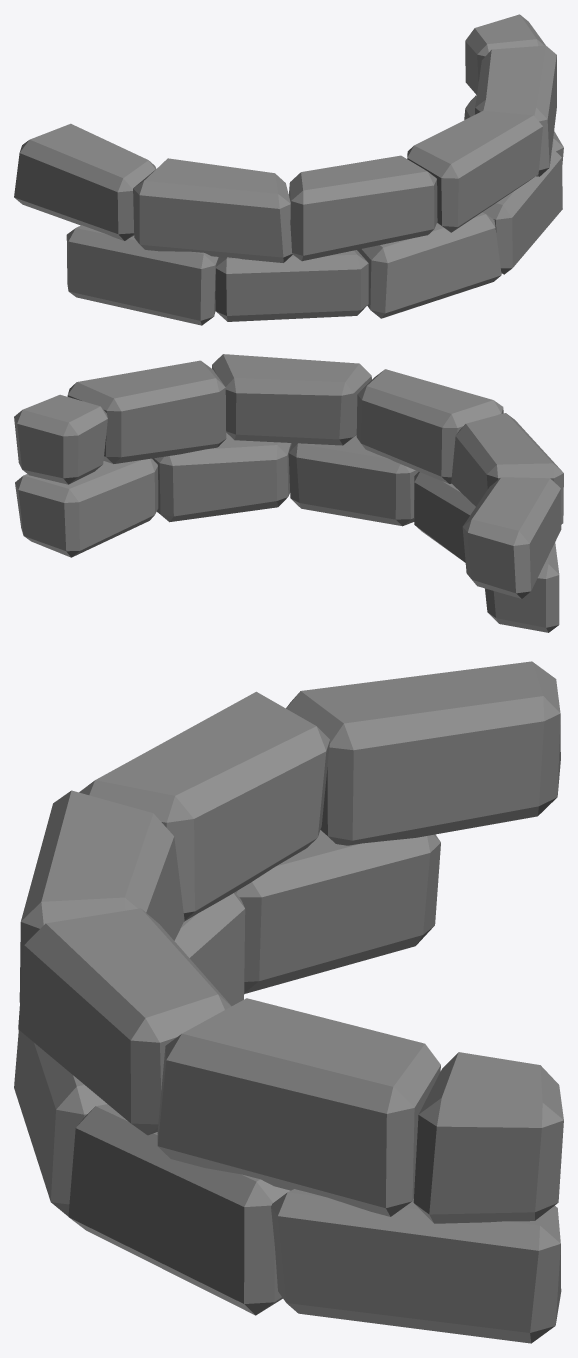
Rendered from BrickWall2mSection_01_T180_End_L.fbx.
The picture shows the model from 3 angles, top to bottom: view 1: azimuth 30°, elevation 25°; view 2: azimuth 150°, elevation 25°; view 3: azimuth 270°, elevation 25°; orthographic projection. The views are drawn at different scales.
Visible parts, largest first — view 1: BrickWall2mSection_01_T180_End_L; view 2: BrickWall2mSection_01_T180_End_L; view 3: BrickWall2mSection_01_T180_End_L.
Part boxes in pixels (x1,y1,x2,y2): BrickWall2mSection_01_T180_End_L: [14, 14, 563, 325]; BrickWall2mSection_01_T180_End_L: [14, 354, 563, 632]; BrickWall2mSection_01_T180_End_L: [14, 661, 563, 1343].
Size of the model in its own units: 162 by 41.78 by 80.49.
